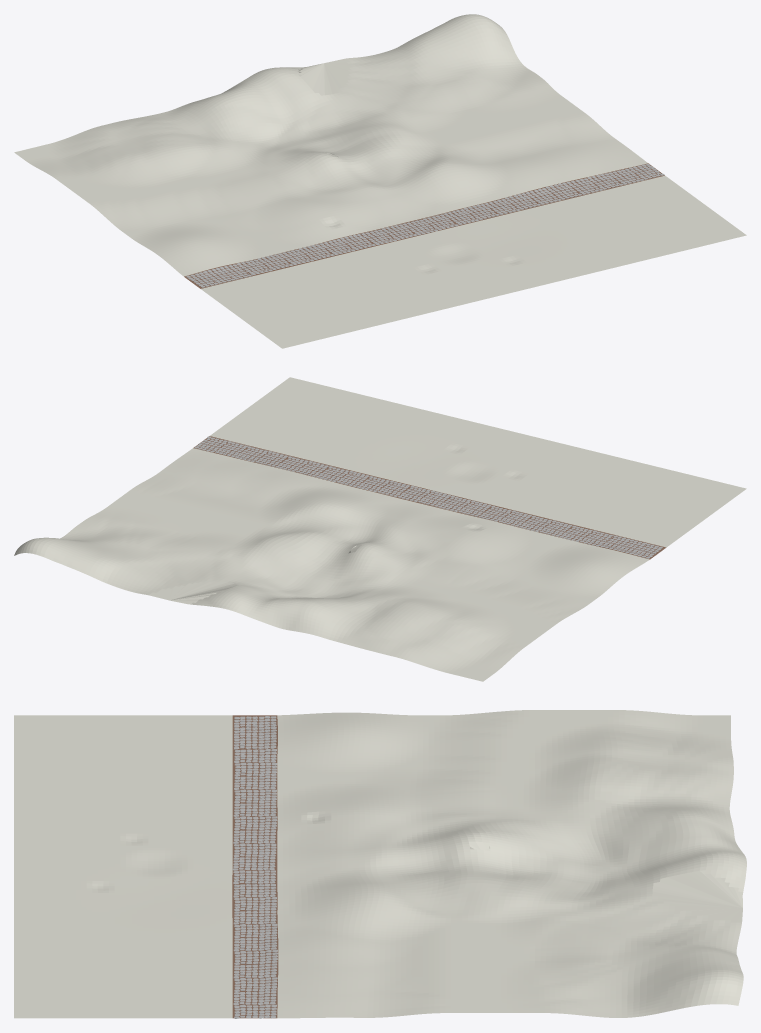
File: village-environment2.fbx
3 renders of one model, top to bottom at view 1: azimuth 30°, elevation 25°; view 2: azimuth 150°, elevation 25°; view 3: azimuth 270°, elevation 25°, orthographic. The views are drawn at different scales.
Visible parts, largest first — view 1: Plane.013; view 2: Plane.013; view 3: Plane.013.
Part boxes in pixels (x1,y1,x2,y2): Plane.013: [14, 14, 746, 348]; Plane.013: [14, 377, 746, 681]; Plane.013: [14, 710, 746, 1018].
Bounding box in the file's own units: 9814 × 605 × 9763.
